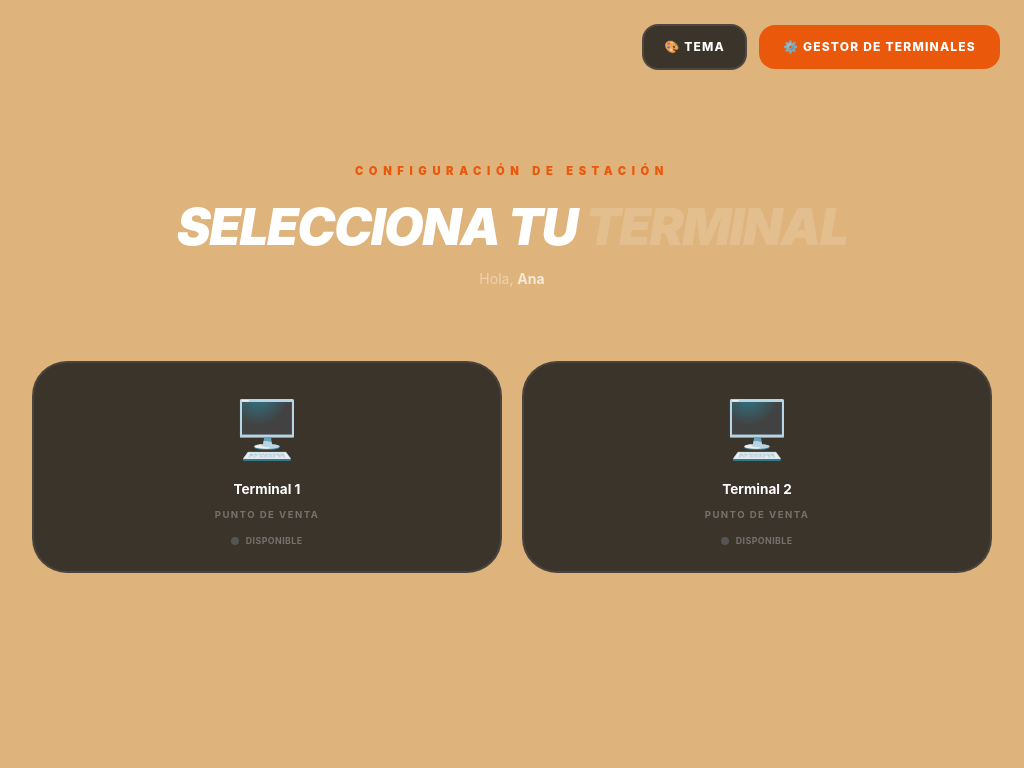
Scenario: BUG-05 — handleSave propaga el error real del backend › muestra el mensaje del backend cuando el guardado falla
Click the button "⚙️ Gestor de Terminales".
click(880, 47)  # box [759,25,1000,69]
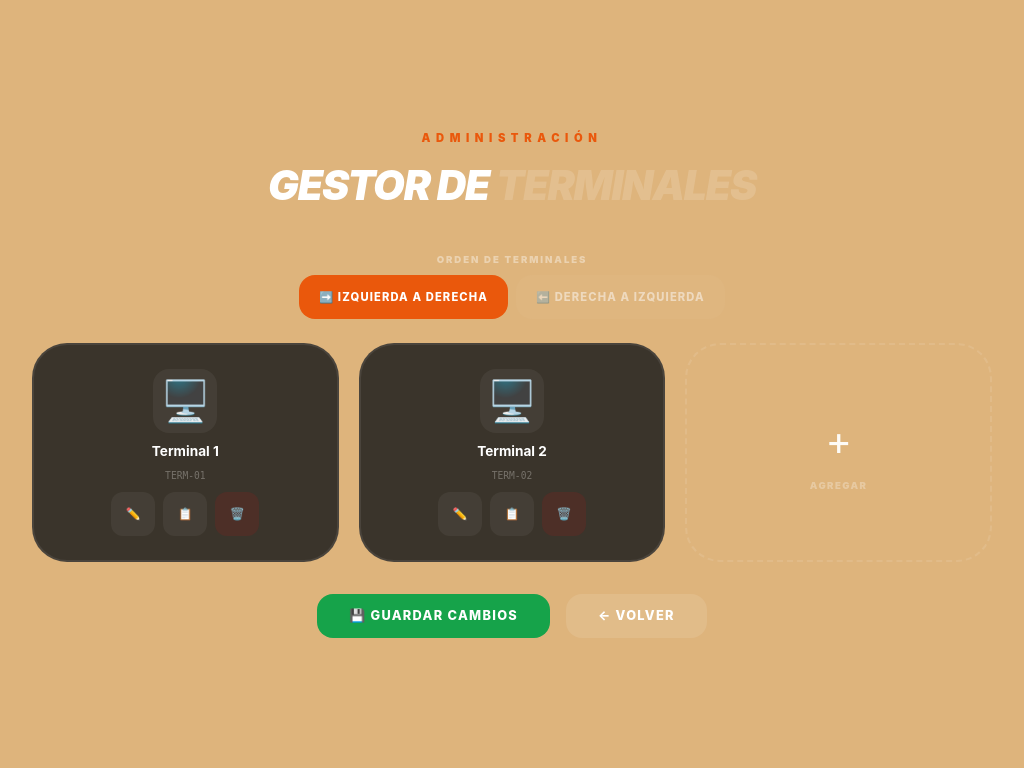
Expected: the button with test id "orden-izq-der" is shown, [299,275,508,319]
Click the button "💾 Guardar cambios".
click(434, 616)  # box [317,594,550,638]
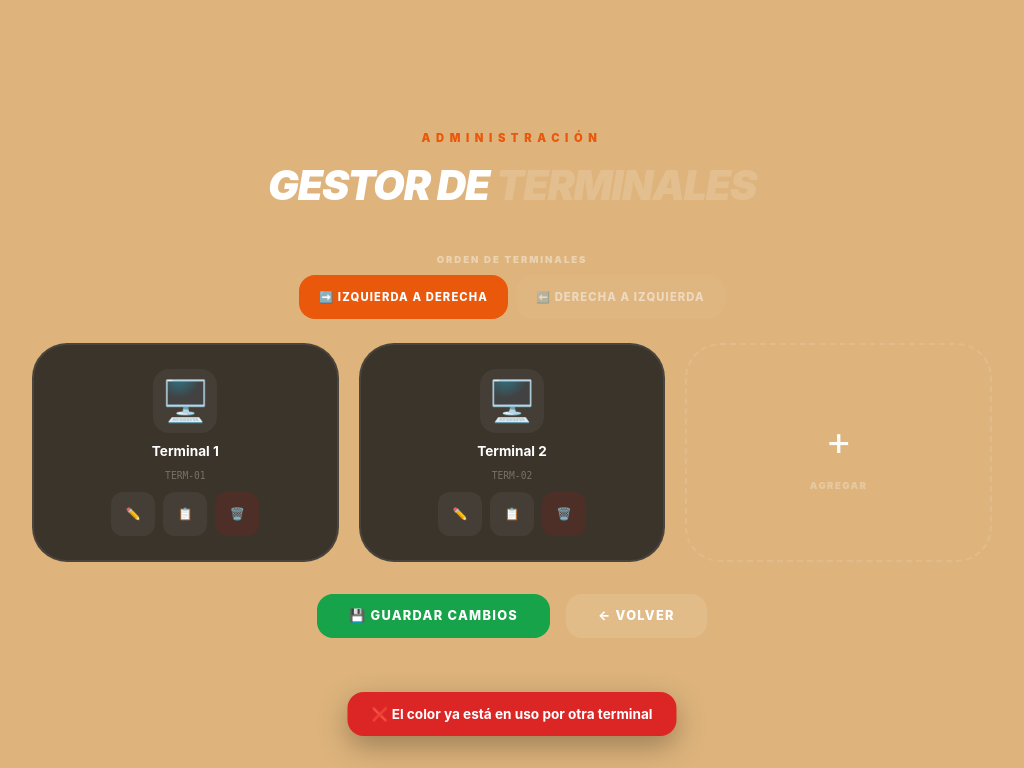
Expected: the text "❌ El color ya está en uso por otra terminal" is shown, [348,692,676,736]
